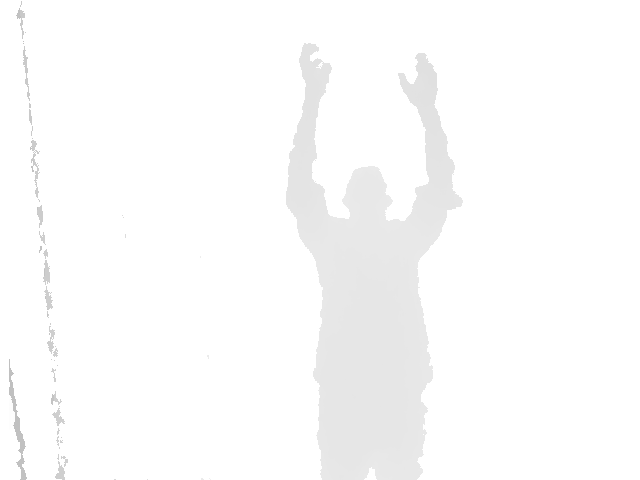hand: (397, 52, 439, 107), (298, 43, 332, 98)
head: (341, 166, 394, 221)
person: (285, 43, 464, 480)
